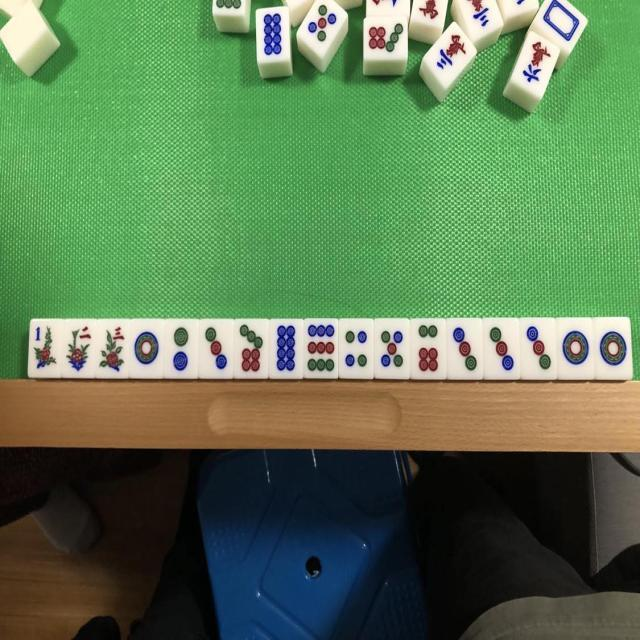bf1: (30, 318, 62, 376)
bs2: (64, 320, 96, 378)
bs3: (98, 322, 128, 377)
sd1: (556, 318, 593, 379), (596, 318, 630, 378), (130, 320, 163, 378)
sd2: (165, 321, 198, 378)
sd3: (520, 318, 555, 378), (484, 319, 518, 379), (448, 320, 482, 378), (200, 323, 233, 378)
sd4: (340, 321, 374, 376)
sd5: (376, 320, 409, 378)
sd6: (411, 318, 445, 378)
sd7: (234, 320, 268, 378)
sd8: (268, 320, 304, 378)
sd9: (304, 319, 338, 376)
